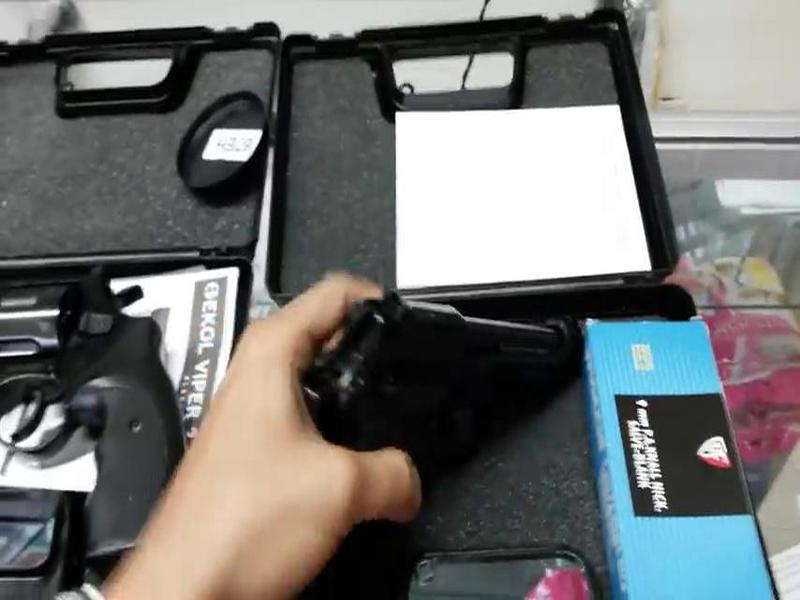Pistola: (308, 269, 626, 600)
